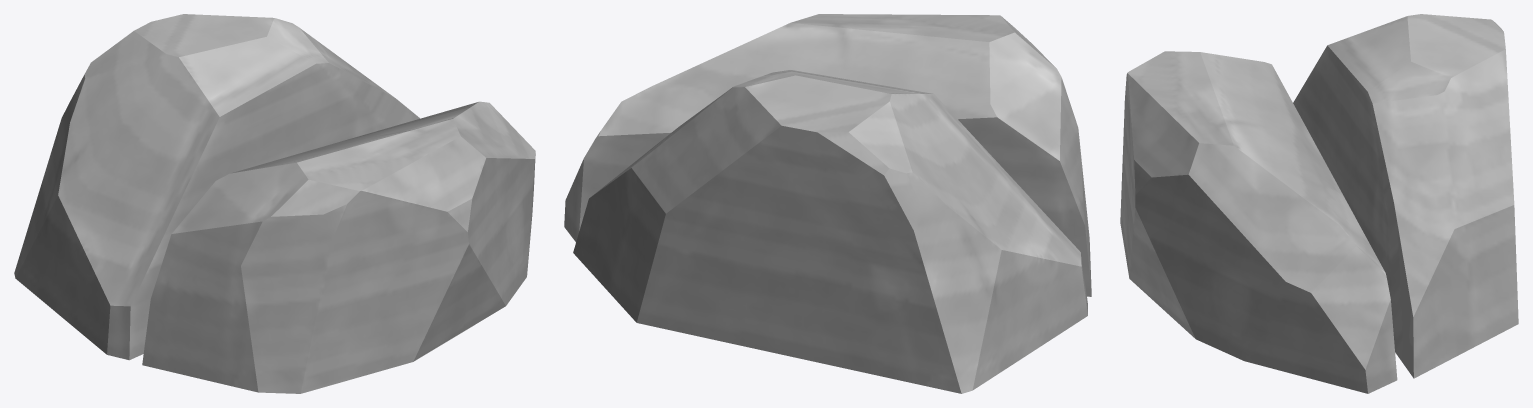
The model's file is sculpted_stone_04.glb.
3 renders of one model, left to right at view 1: azimuth 30°, elevation 25°; view 2: azimuth 150°, elevation 25°; view 3: azimuth 270°, elevation 25°, orthographic. The views are drawn at different scales.
Parts seen in each view (by area): view 1: sculpted_stone_04; view 2: sculpted_stone_04; view 3: sculpted_stone_04.
Boxes of the visible parts, <box> form: sculpted_stone_04: <box>14,14,535,393</box>; sculpted_stone_04: <box>564,14,1091,393</box>; sculpted_stone_04: <box>1120,14,1518,393</box>.
Size of the model in its own units: 0.5326 by 0.2451 by 0.4048.
1 material, 1 textured.
